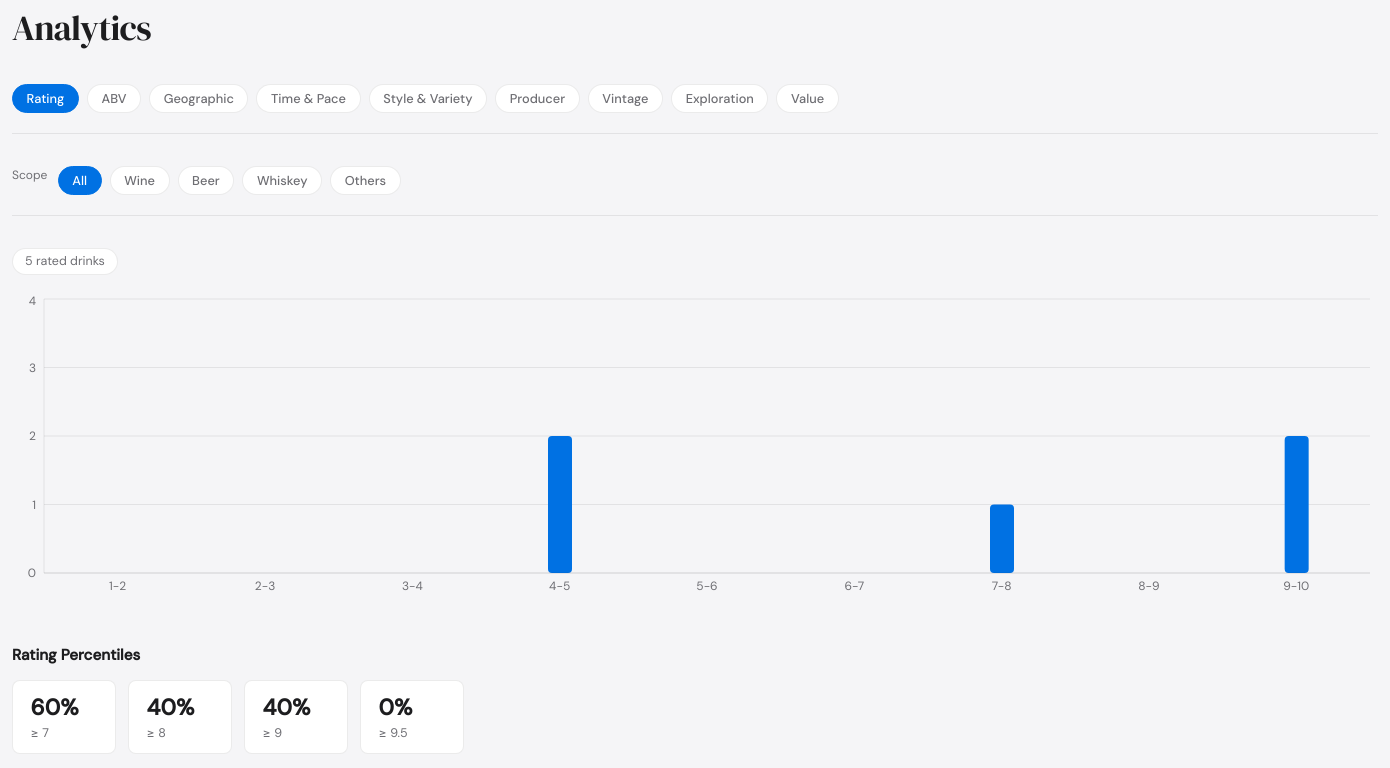
Test: clicking the Geographic tab renders GeographicSection
Expected: the text "5 rated drinks" is shown, [12, 248, 118, 276]
Click the button "Geographic": (199, 99) [149, 84, 248, 113]
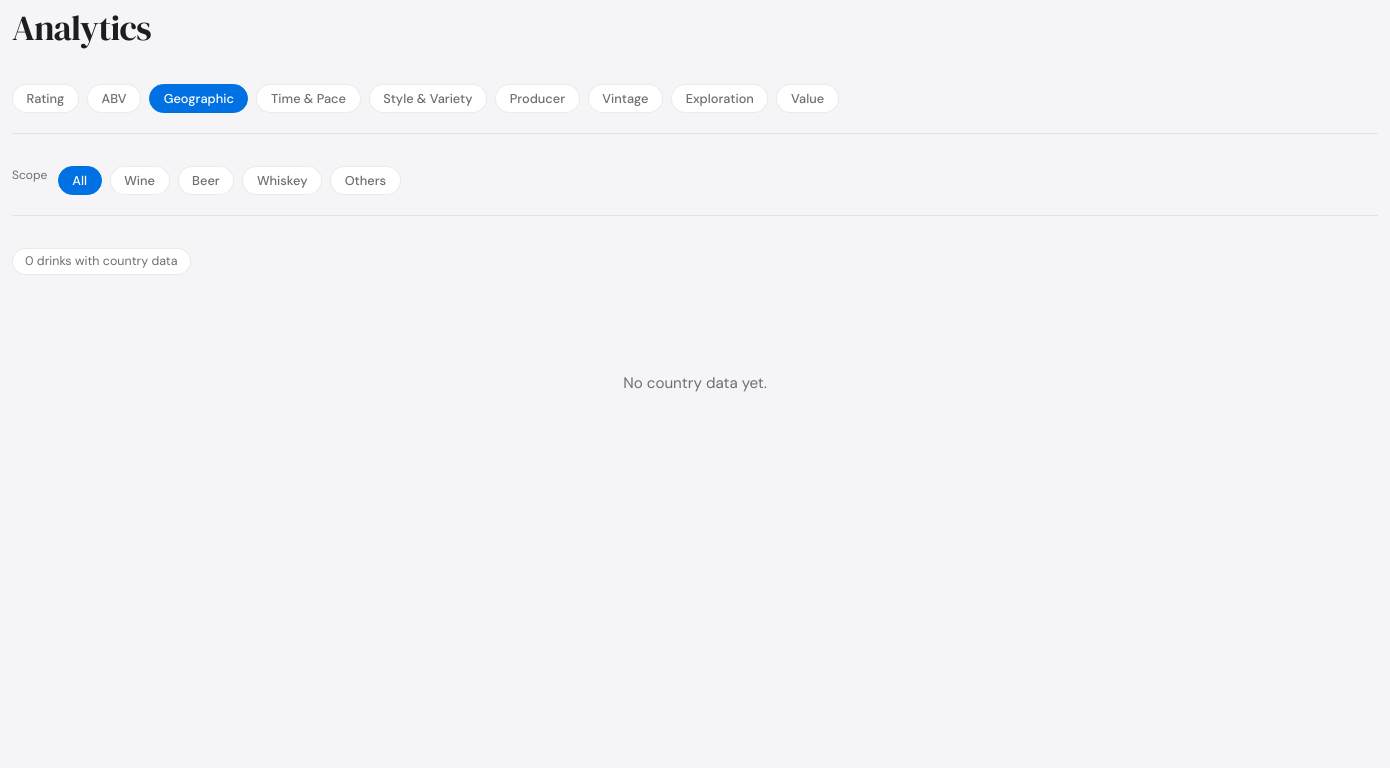
Now the text "0 drinks with country data" is shown, box [12, 248, 190, 276]
